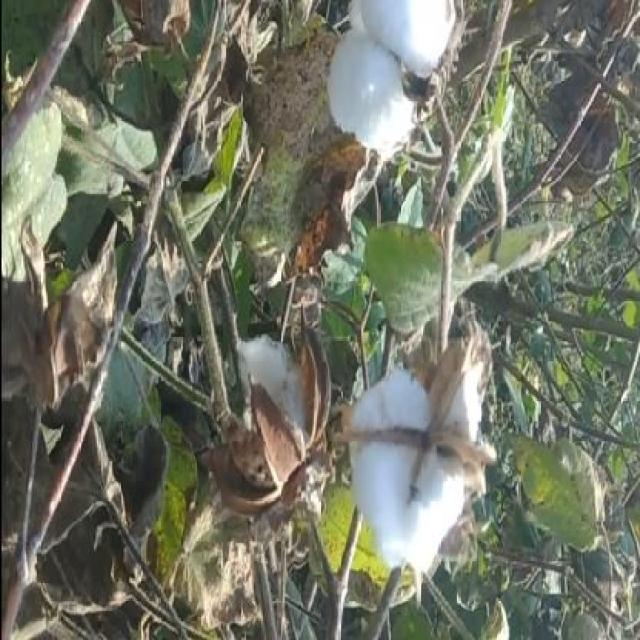cotton_ready: (334, 326, 494, 576), (323, 0, 477, 142)
